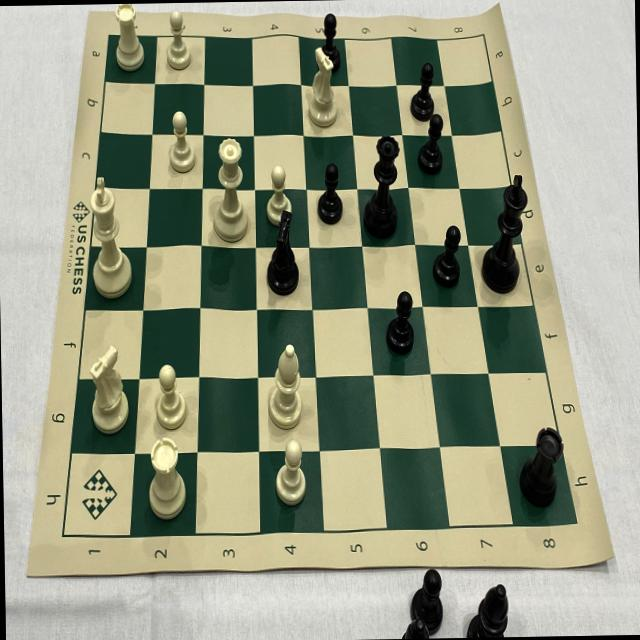black-king: (476, 167, 532, 300)
black-knight: (257, 208, 304, 299)
black-pawn: (382, 291, 420, 365), (428, 224, 467, 290), (310, 4, 345, 73), (411, 114, 448, 178), (314, 158, 346, 228), (405, 56, 437, 125)
black-queen: (357, 128, 402, 244)
black-rook: (515, 413, 566, 512)
white-bishop: (262, 338, 308, 434)
white-king: (82, 172, 134, 302)
white-knight: (82, 342, 134, 438), (303, 41, 342, 136)
white-pawn: (270, 432, 312, 509), (150, 360, 190, 434), (261, 158, 297, 228), (163, 112, 198, 176), (162, 4, 194, 73)
white-queen: (206, 127, 252, 249)
white-rook: (140, 432, 192, 522), (104, 3, 148, 76)
